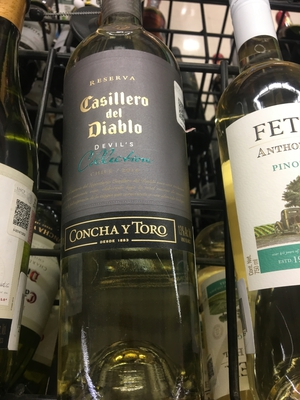casillero del diablo devils collection verde: (57, 21, 200, 400)
